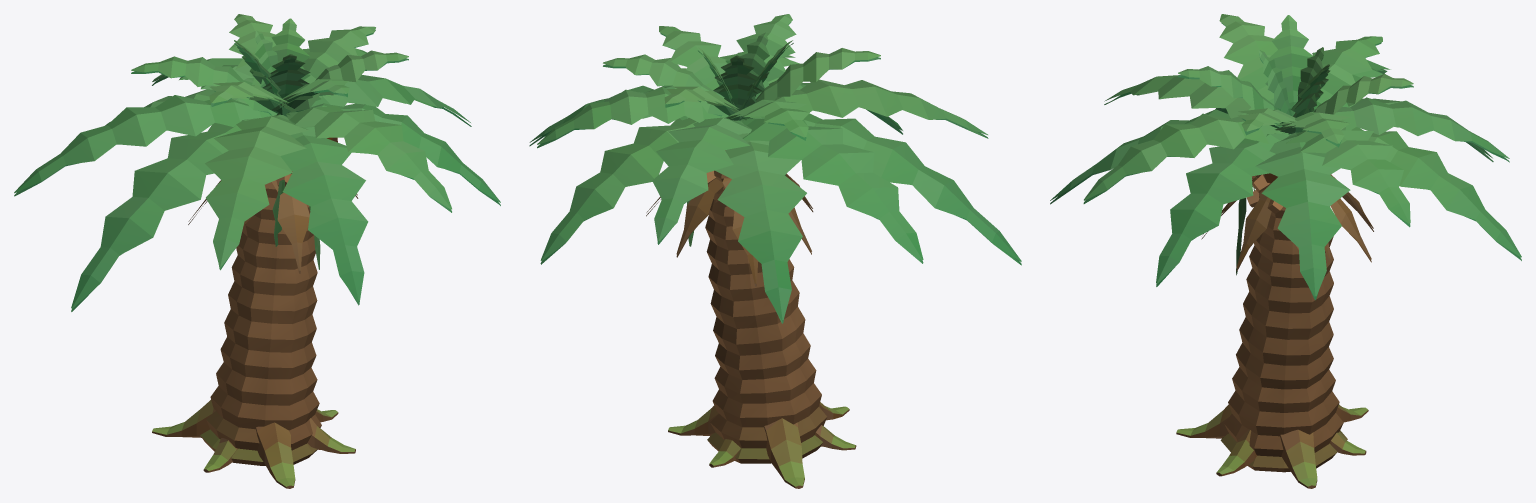
File: world_tree_colossal_palm_v3.fbx
3 views of the same model, side by side, from view 1: azimuth 30°, elevation 25°; view 2: azimuth 150°, elevation 25°; view 3: azimuth 270°, elevation 25° (orthographic). The views are drawn at different scales.
Visible parts, largest first — view 1: world_tree_colossal_palm_v3; view 2: world_tree_colossal_palm_v3; view 3: world_tree_colossal_palm_v3.
Part boxes in pixels (x1,y1,x2,y2): world_tree_colossal_palm_v3: [14, 14, 500, 488]; world_tree_colossal_palm_v3: [529, 14, 1021, 488]; world_tree_colossal_palm_v3: [1050, 14, 1521, 488].
Size of the model in its own units: 11855 by 10503 by 10661.
